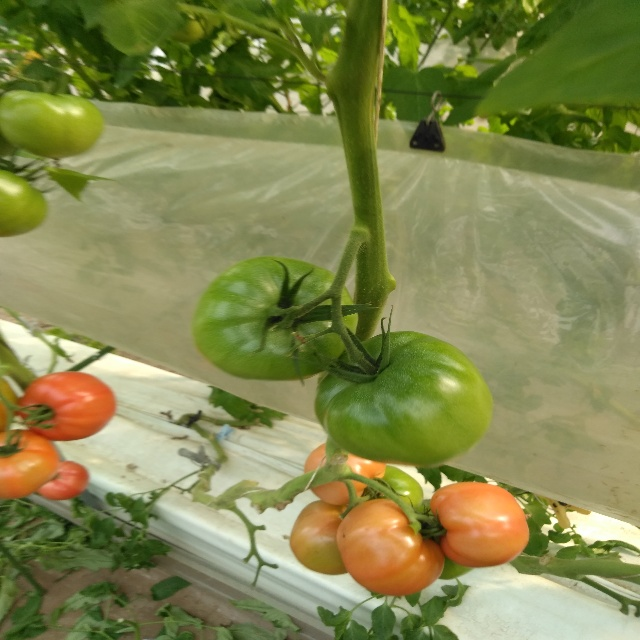b_fully_ripened: (18, 371, 115, 442)
b_green: (315, 330, 495, 467), (193, 257, 357, 382), (0, 89, 104, 160), (0, 169, 48, 238), (367, 464, 424, 512)
b_half_ripened: (337, 499, 445, 596), (429, 481, 530, 568), (303, 440, 386, 505), (290, 500, 355, 575), (0, 429, 59, 499), (37, 460, 89, 500)
